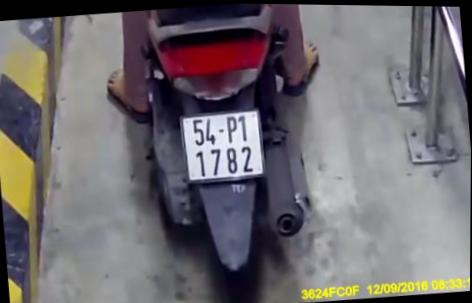LP: (180, 107, 267, 182)
